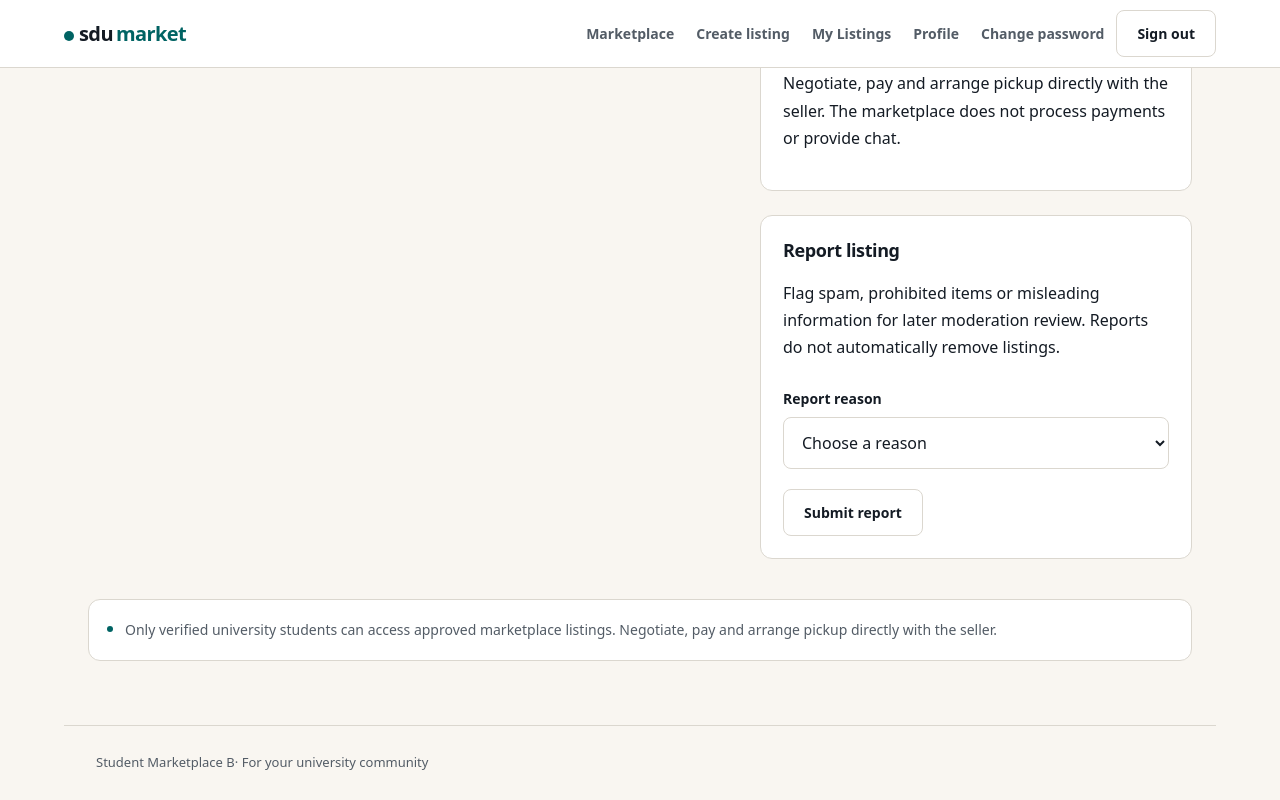
Test case: report reason validation, exact payload, pending prevention and confirmed acceptance
The image size is (1280, 800).
(page scrolled)
Submit the form named "Report listing", box left=783, top=378, right=1169, bottom=536
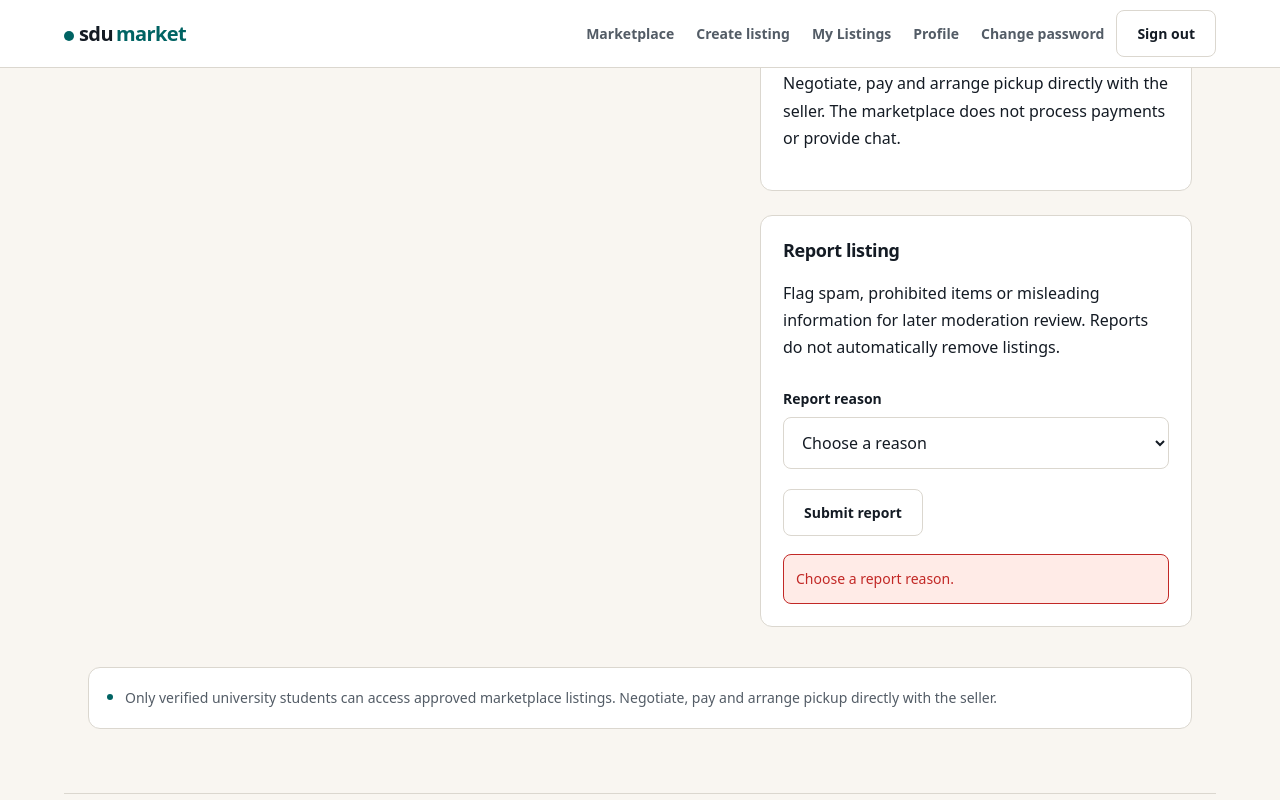
Result: the message reads "Choose a report reason." at left=796, top=570, right=954, bottom=588
Select "Prohibited items" in the dropdown labelled "Report reason". click: {"x": 976, "y": 444}
box: left=783, top=418, right=1169, bottom=470
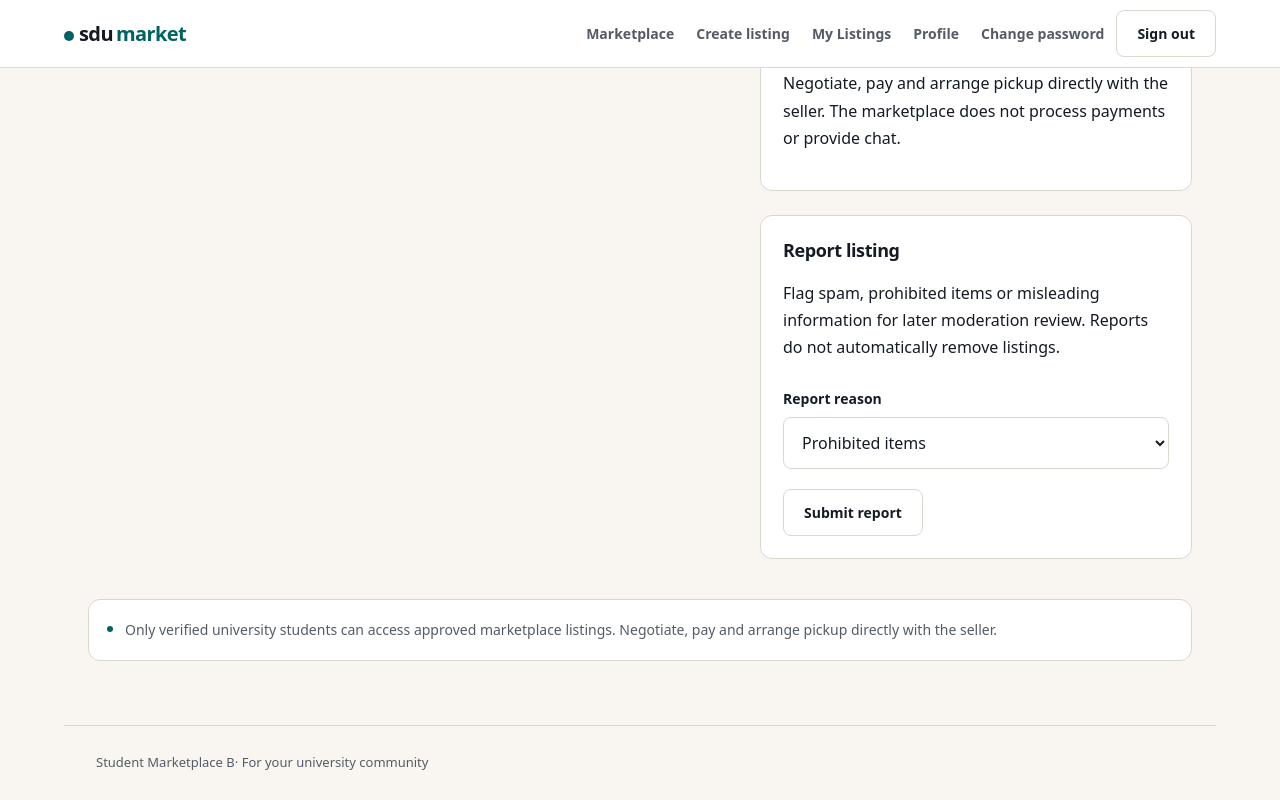
Submit the form named "Report listing", box left=783, top=378, right=1169, bottom=536
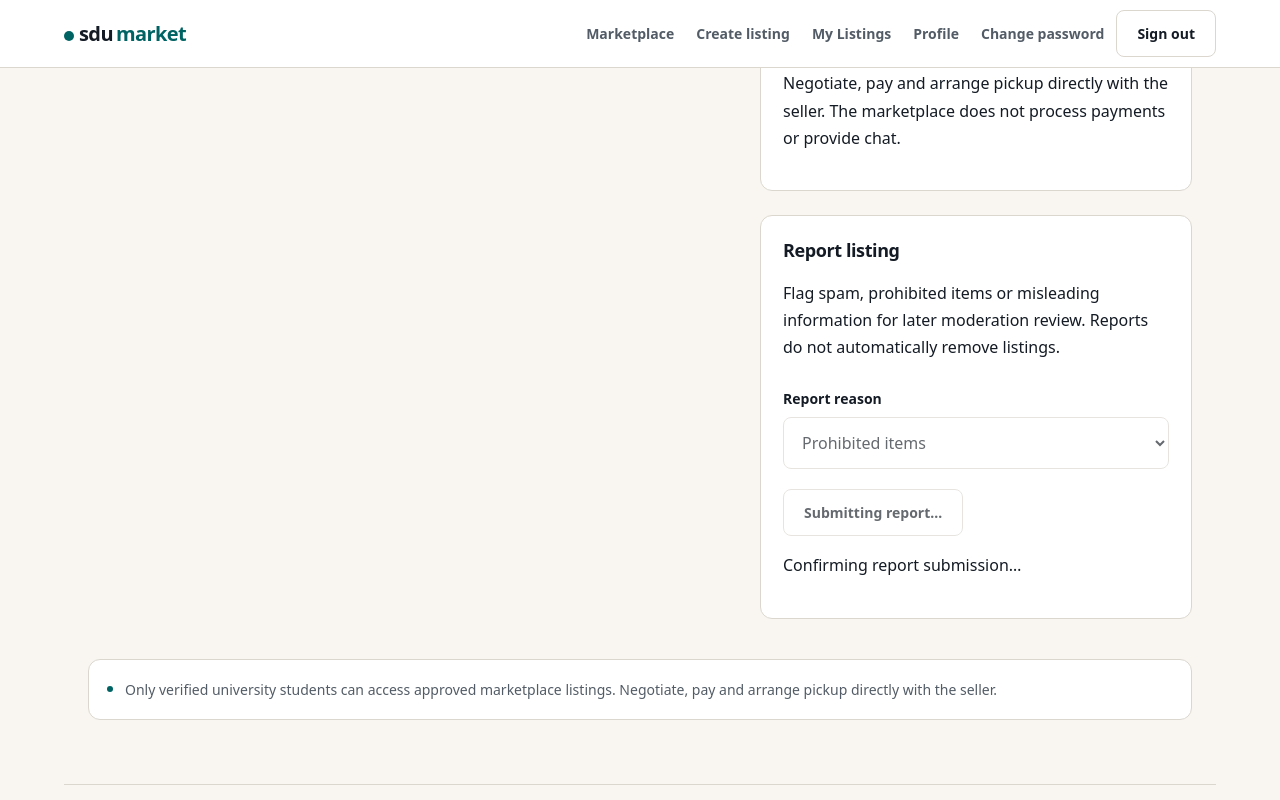
Result: the dropdown labelled "Report reason" is disabled at left=783, top=418, right=1169, bottom=470
Result: the button "Submitting report…" is disabled at left=783, top=490, right=963, bottom=536
Submit the form named "Report listing", box left=783, top=378, right=1169, bottom=596
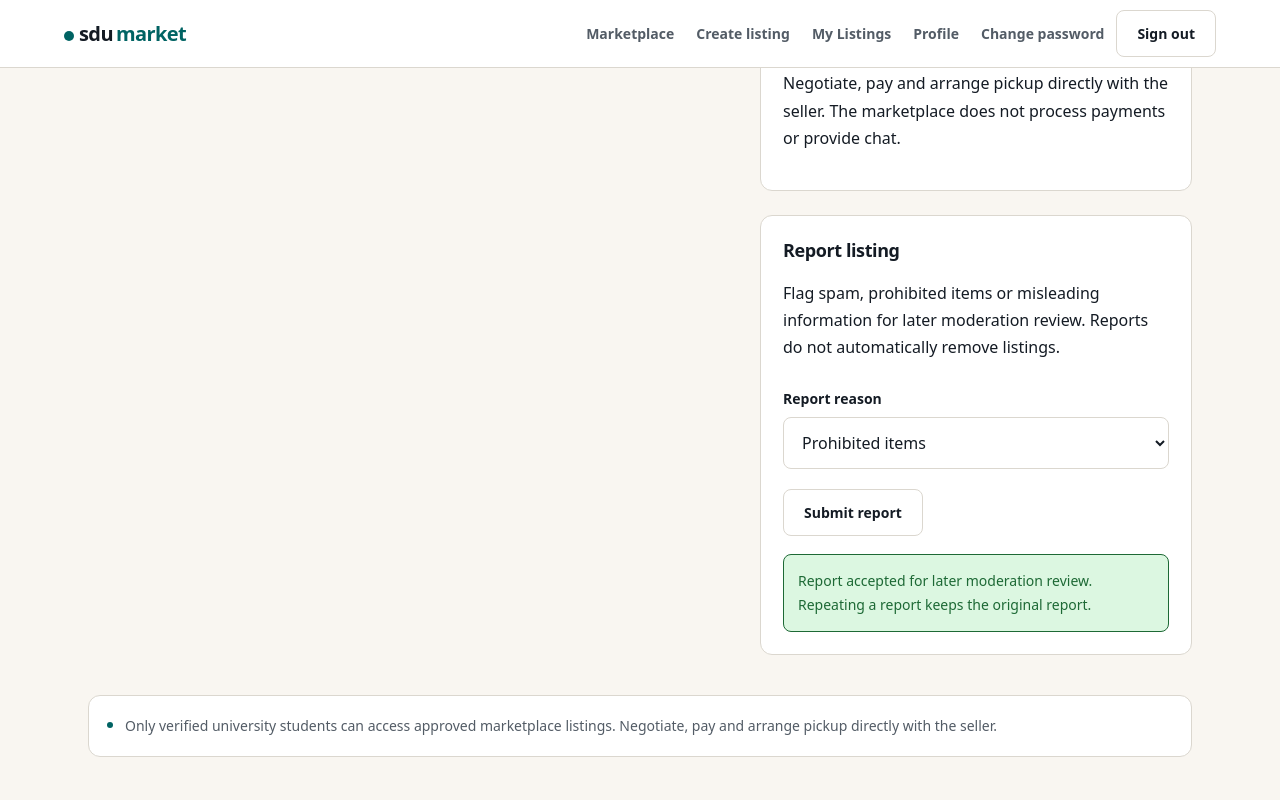
Result: the text "Report accepted for later moderation review. Repeating a report keeps the original report." is shown at left=798, top=572, right=1092, bottom=614
Result: the dropdown labelled "Report reason" is enabled at left=783, top=418, right=1169, bottom=470
